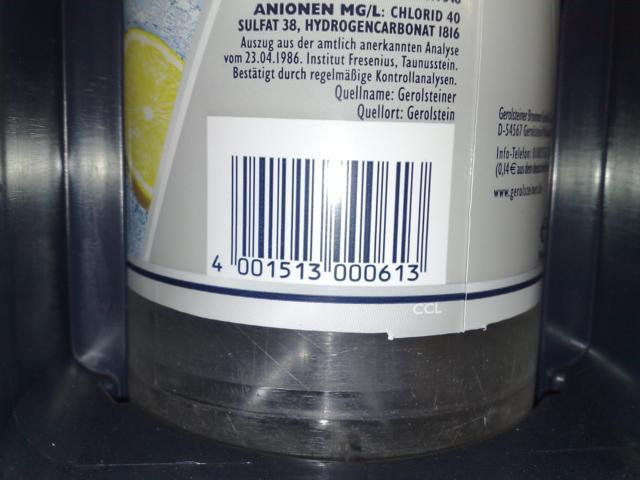Barcode: (207, 152, 440, 285)
